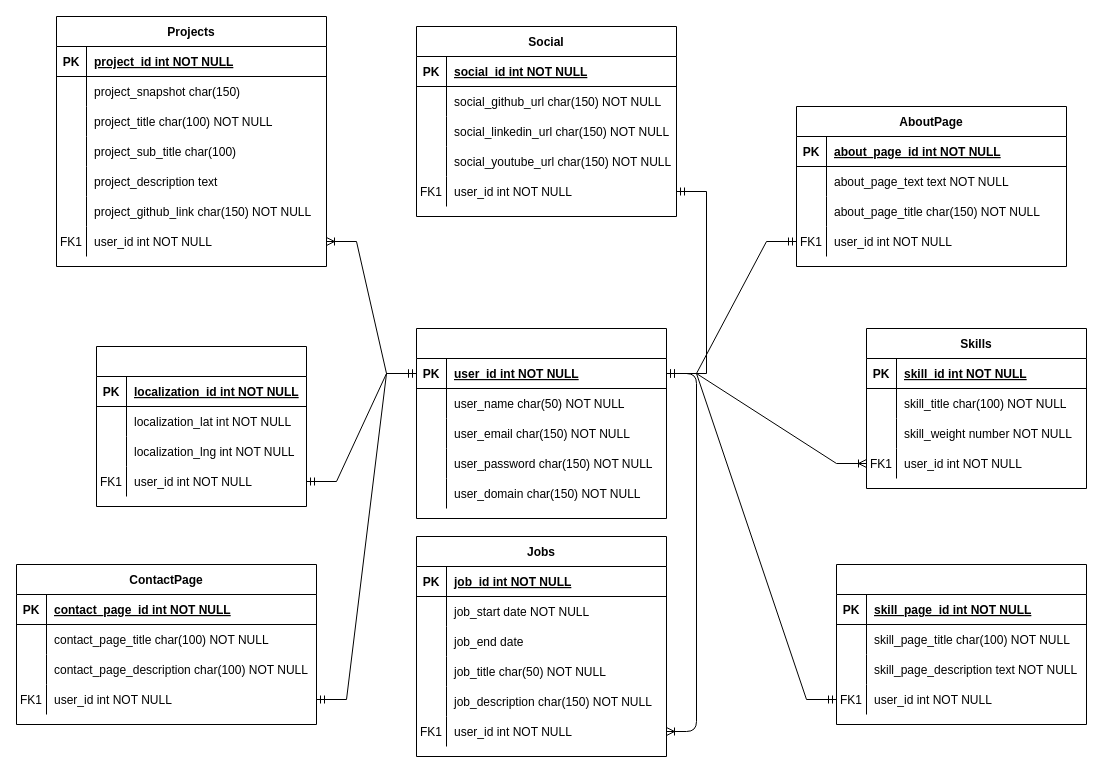
This 1103x773 diagram has some shape labels left out. The box of each missing label's shape, as (x1, y1, x2, y2) in pixels:
Localizations: (96, 346, 306, 506)
SkillsPage: (836, 564, 1086, 724)
Users: (416, 328, 666, 518)
